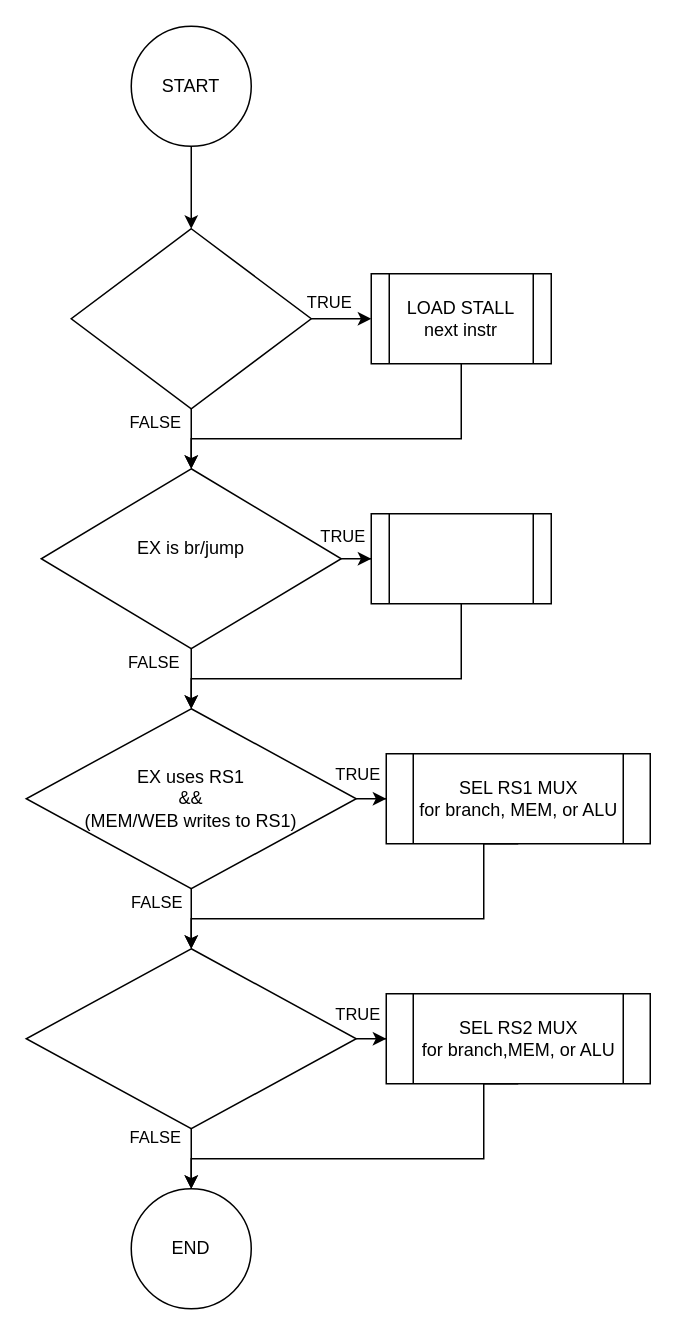
This 677x1335 diagram has some shape labels left out. Here are the shapes that lost their labels. From the top down, the centre of each, then its label:
At [190,318]: "EX is lw && DE needs content".
At [460,558]: "JUMP STALL next instr".
At [190,1038]: "EX uses RS2 && (MEM/WEB writes to RS2)".
